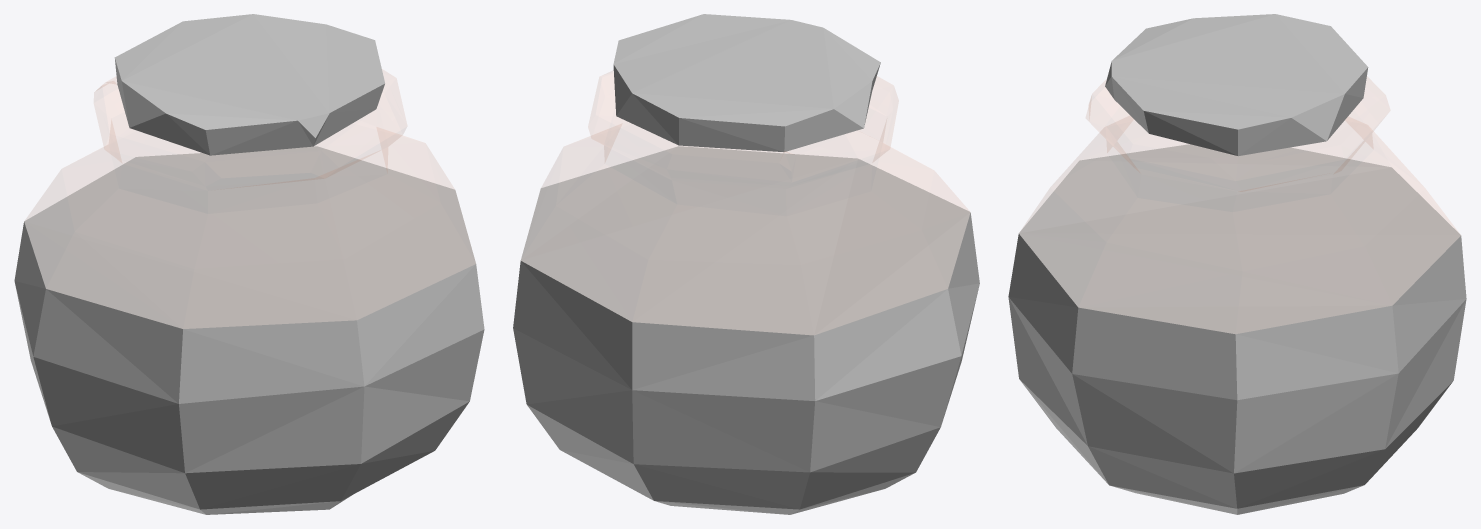
The model's file is SFI_Jar_015.fbx.
The picture shows the model from 3 angles, left to right: view 1: azimuth 30°, elevation 25°; view 2: azimuth 150°, elevation 25°; view 3: azimuth 270°, elevation 25°; orthographic projection.
Parts seen in each view (by area): view 1: SFI_Jar_015; view 2: SFI_Jar_015; view 3: SFI_Jar_015.
Boxes of the visible parts, bbox=[...] form: SFI_Jar_015: bbox=[14, 14, 484, 514]; SFI_Jar_015: bbox=[513, 14, 979, 514]; SFI_Jar_015: bbox=[1008, 14, 1466, 514].
Size of the model in its own units: 22.48 by 19.94 by 20.99.
